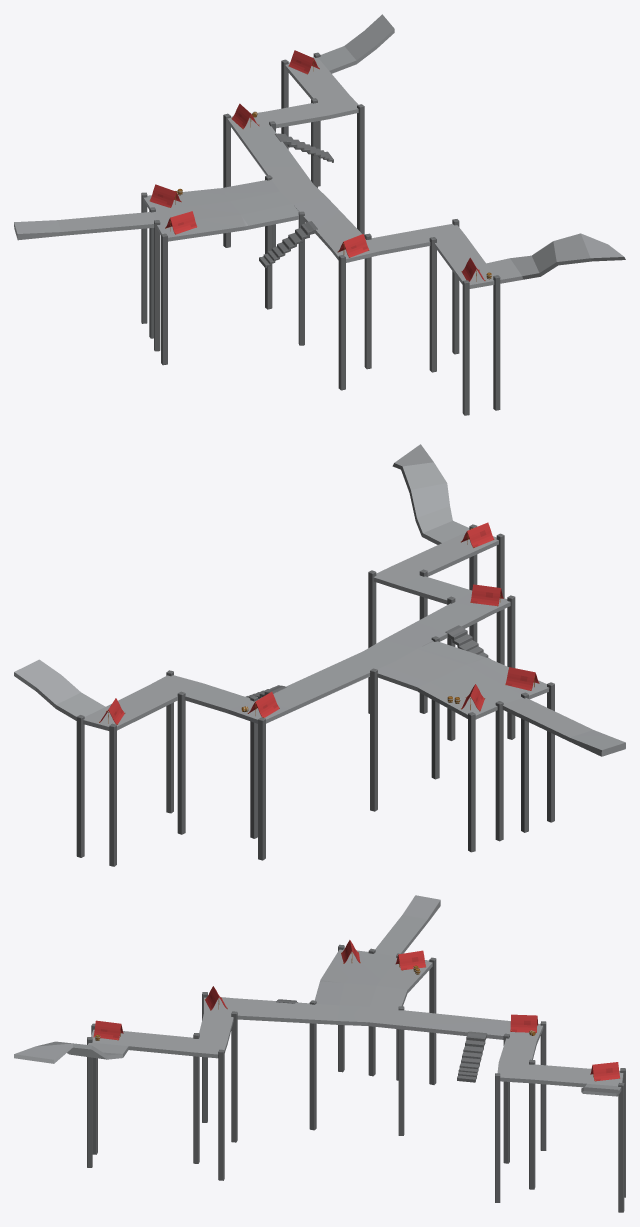
Rendered from village1.glb.
3 views of the same model, one above another, from view 1: azimuth 30°, elevation 25°; view 2: azimuth 150°, elevation 25°; view 3: azimuth 270°, elevation 25° (orthographic). The views are drawn at different scales.
Parts seen in each view (by area): view 1: Plane.002, Cube.018, Plane.005, Plane; view 2: Plane.002, Cube.018, Plane.005, Plane; view 3: Plane.002, Cube.018, Plane.005, Plane.
Boxes of the visible parts, left/top/right/bottom form: Plane.002: left=14, top=14, right=625, bottom=288; Cube.018: left=141, top=52, right=500, bottom=415; Plane.005: left=149, top=50, right=485, bottom=281; Plane: left=259, top=133, right=333, bottom=268; Plane.002: left=14, top=444, right=625, bottom=756; Cube.018: left=76, top=524, right=554, bottom=866; Plane.005: left=99, top=522, right=539, bottom=724; Plane: left=245, top=625, right=490, bottom=699; Plane.002: left=14, top=895, right=623, bottom=1096; Cube.018: left=87, top=944, right=625, bottom=1212; Plane.005: left=93, top=940, right=620, bottom=1081; Plane: left=276, top=999, right=486, bottom=1082.
Size of the model in its own units: 25.23 by 8.42 by 29.35.
